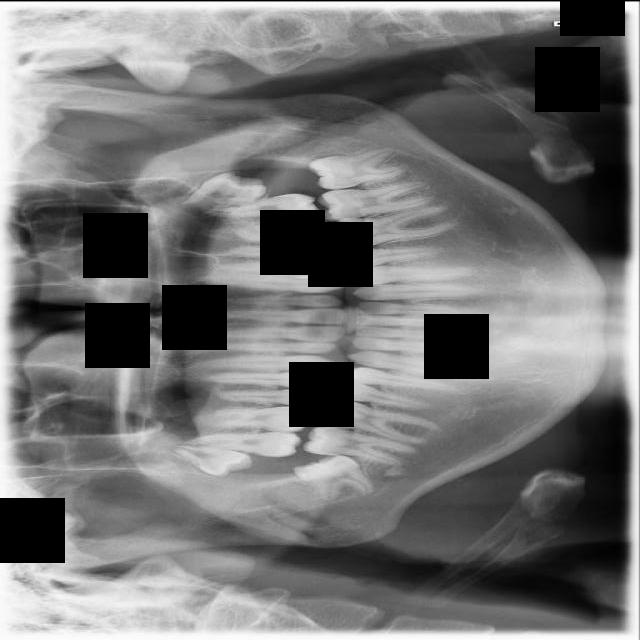3M ESPE Implant: (170, 439, 255, 482)
52: (329, 212, 372, 257), (319, 396, 363, 429), (333, 377, 371, 402), (349, 262, 386, 285), (343, 246, 376, 268), (305, 242, 336, 262)
73: (576, 70, 590, 74)
BioHorizons Implant: (201, 193, 319, 219)
BioLife Implant: (177, 164, 269, 216)
Biomet 3i Implant: (306, 142, 409, 194)
Blue Sky Bio Implant: (316, 170, 439, 225)
Caries: (181, 424, 303, 458)
Implant: (302, 421, 420, 469)
Keystone Dental Implant: (290, 450, 375, 503)
